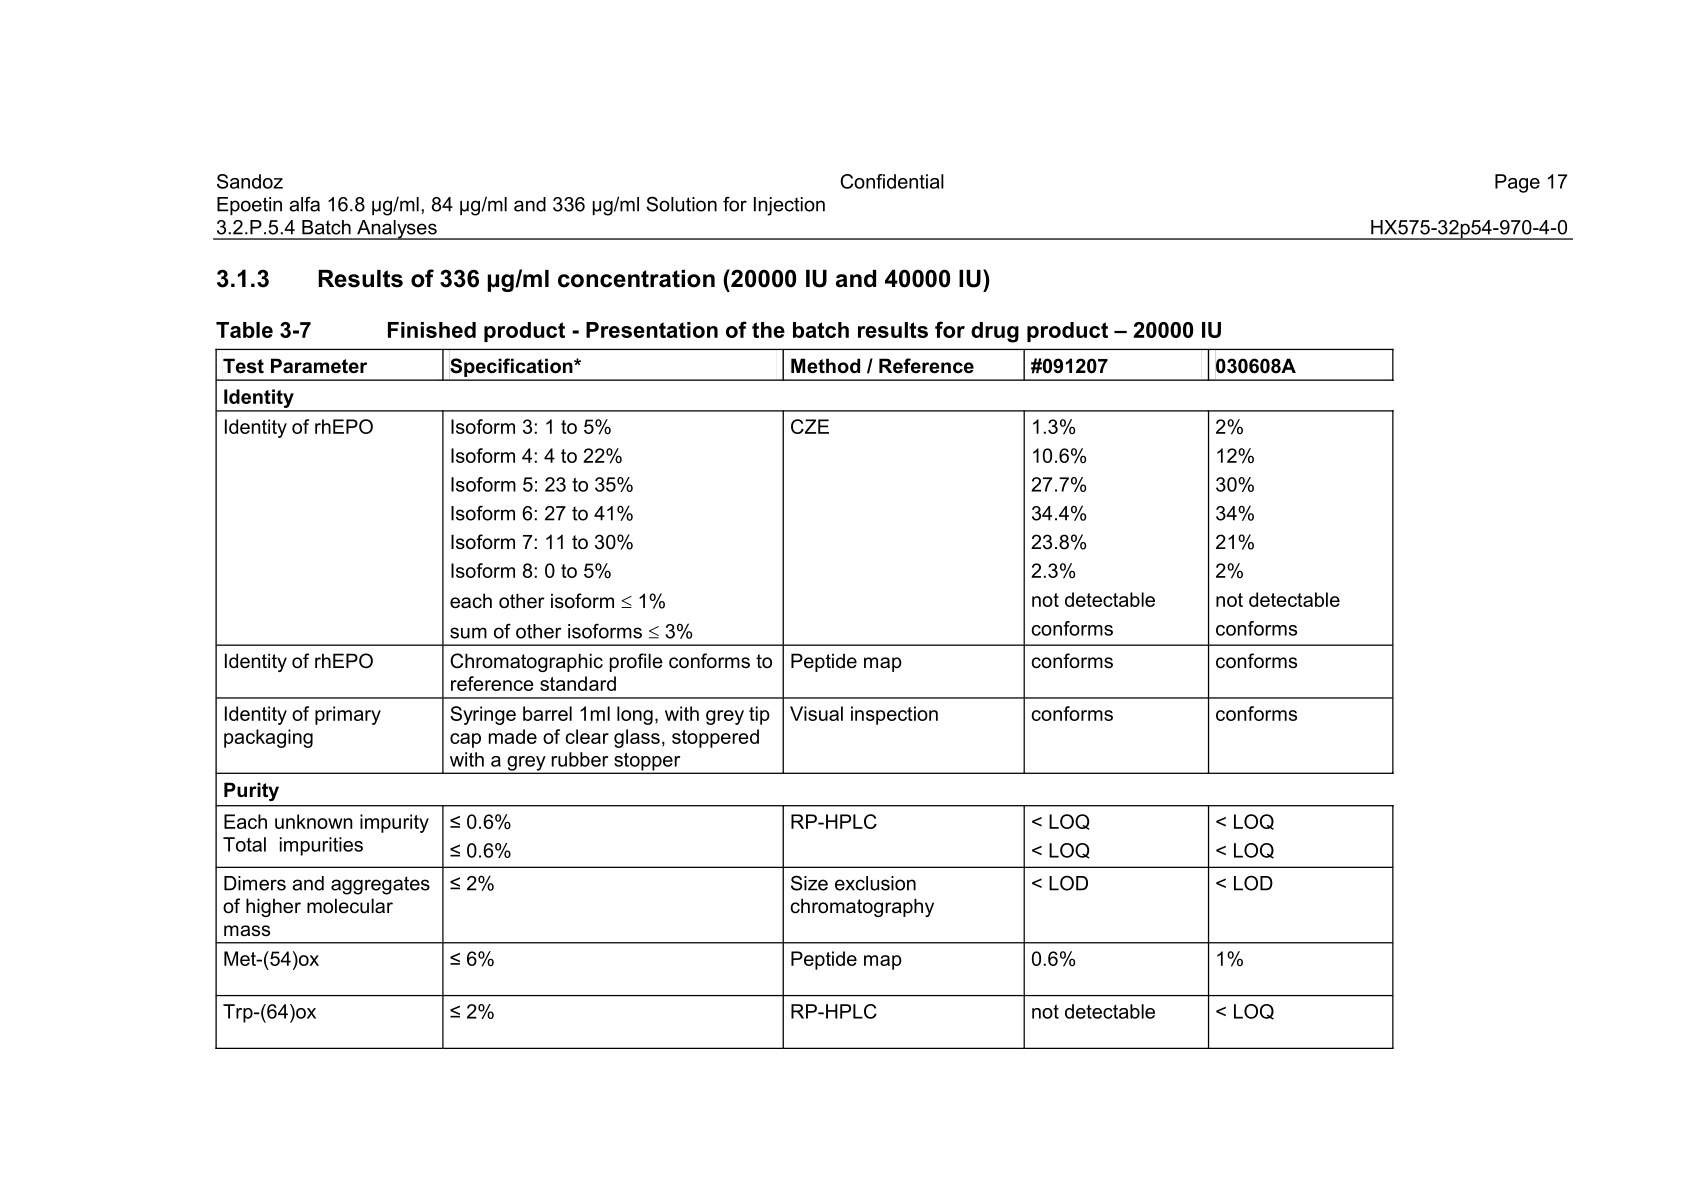merged_cells: (214, 348, 1394, 1051)
